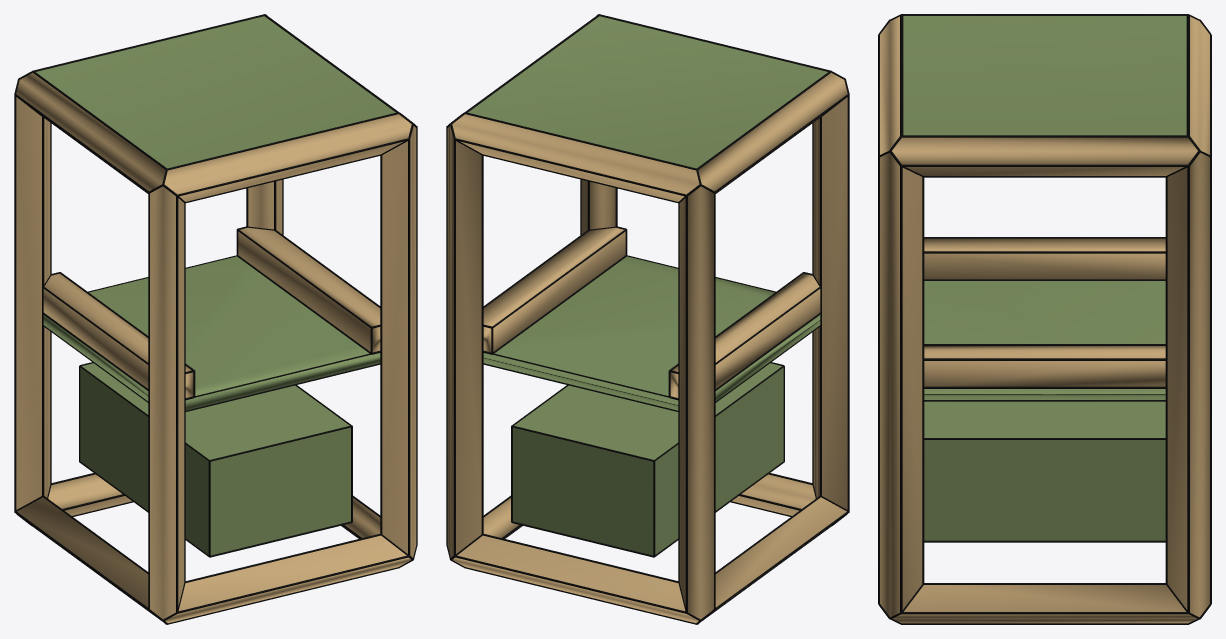
The model's file is 001-table-chevet-petite.glb.
3 views of the same model, side by side, from view 1: azimuth 30°, elevation 25°; view 2: azimuth 150°, elevation 25°; view 3: azimuth 270°, elevation 25° (orthographic). The views are drawn at different scales.
Parts seen in each view (by area): view 1: mod-drawer-0, panneau-dessus_exterieur, tablette-plate-mod-0, arete-Z0, arete-Z1, arete-Z2, arete-X2, arete-X0, tablette-traverse-right-mod-0, tablette-traverse-left-mod-0, arete-Y2, arete-Y0 (+15 smaller); view 2: mod-drawer-0, panneau-dessus_exterieur, tablette-plate-mod-0, arete-Z2, arete-Z3, arete-Z0, arete-X3, arete-X1, tablette-traverse-right-mod-0, tablette-traverse-left-mod-0, arete-Y2, arete-Y0 (+15 smaller); view 3: panneau-dessus_exterieur, mod-drawer-0, arete-Z1, arete-Z3, tablette-plate-mod-0, arete-Y3, arete-Y1, tablette-traverse-left-mod-0, tablette-traverse-right-mod-0, arete-wire-Z1, arete-wire-Z3, arete-X2 (+10 smaller).
Boxes of the visible parts, <box> form: mod-drawer-0: <box>80,363,350,555</box>; panneau-dessus_exterieur: <box>36,16,395,168</box>; tablette-plate-mod-0: <box>43,256,380,410</box>; arete-Z0: <box>150,186,184,619</box>; arete-Z1: <box>382,126,416,557</box>; arete-Z2: <box>16,97,50,509</box>; arete-X2: <box>164,114,411,201</box>; arete-X0: <box>165,535,410,623</box>; tablette-traverse-right-mod-0: <box>238,227,380,352</box>; tablette-traverse-left-mod-0: <box>43,273,193,397</box>; arete-Y2: <box>16,72,165,191</box>; arete-Y0: <box>17,497,148,607</box>; mod-drawer-0: <box>513,363,783,555</box>; panneau-dessus_exterieur: <box>468,16,827,168</box>; tablette-plate-mod-0: <box>483,256,820,410</box>; arete-Z2: <box>679,186,713,619</box>; arete-Z3: <box>447,126,481,557</box>; arete-Z0: <box>813,97,847,509</box>; arete-X3: <box>452,114,699,201</box>; arete-X1: <box>453,535,698,623</box>; tablette-traverse-right-mod-0: <box>483,227,625,352</box>; tablette-traverse-left-mod-0: <box>670,273,820,397</box>; arete-Y2: <box>698,72,847,191</box>; arete-Y0: <box>715,497,846,607</box>; panneau-dessus_exterieur: <box>903,16,1186,135</box>; mod-drawer-0: <box>924,401,1165,540</box>; arete-Z1: <box>880,152,922,617</box>; arete-Z3: <box>1167,152,1209,617</box>; tablette-plate-mod-0: <box>924,281,1165,399</box>; arete-Y3: <box>892,137,1197,175</box>; arete-Y1: <box>892,585,1197,623</box>; tablette-traverse-left-mod-0: <box>924,238,1165,279</box>; tablette-traverse-right-mod-0: <box>924,346,1165,386</box>; arete-wire-Z1: <box>878,151,924,613</box>; arete-wire-Z3: <box>1165,156,1211,613</box>; arete-X2: <box>880,16,899,154</box>.
Size of the model in its own units: 0.3238 by 0.5238 by 0.3238.
